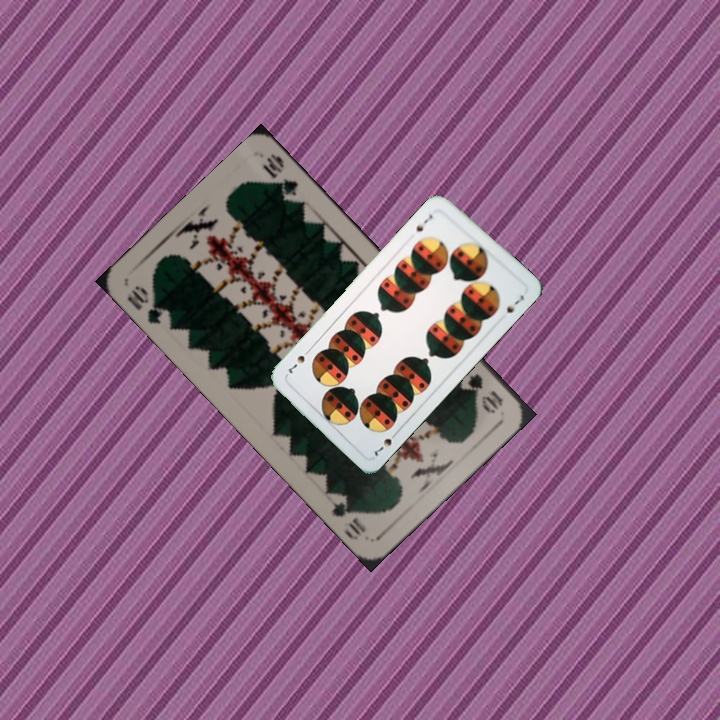G10: (459, 364, 506, 416), (122, 281, 174, 327)
S7: (370, 426, 401, 458), (412, 210, 435, 234)
